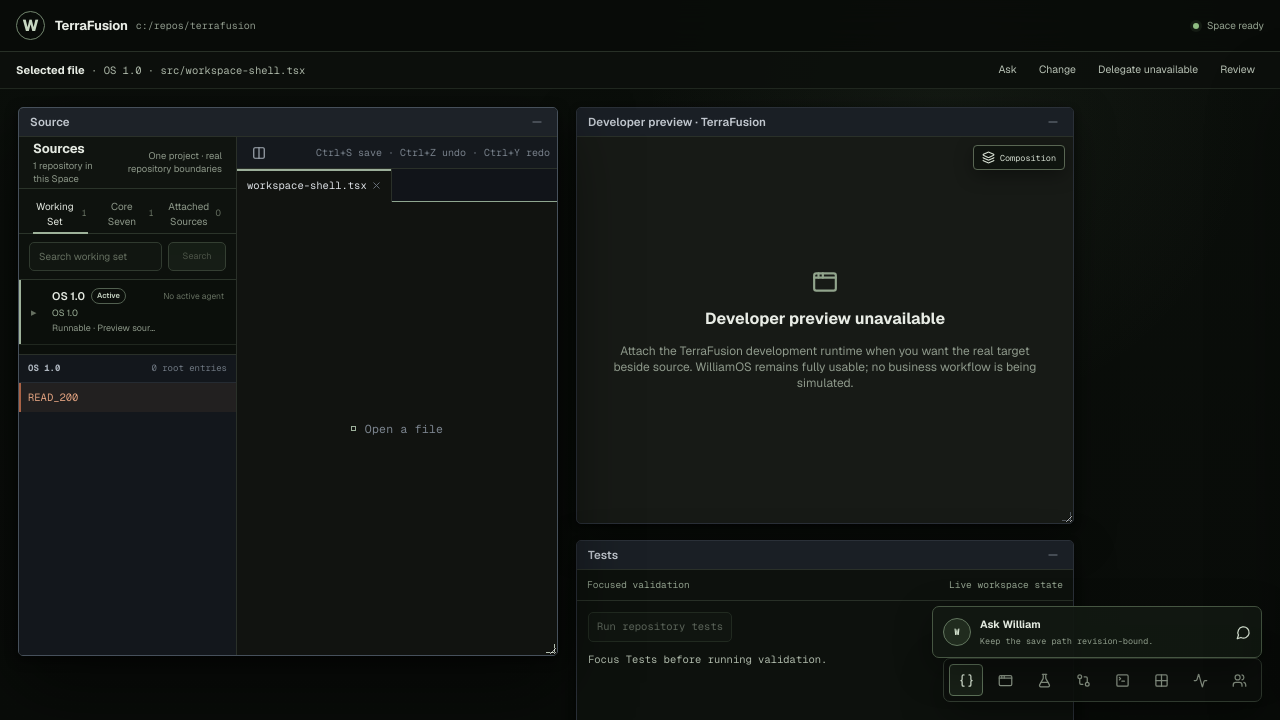
Test case: durable William conversation rail › does not let a successful older turn clear a newer unsent draft
Click the button with aria-label "Open William conversation" at (1097, 632), box [932,606,1262,658]
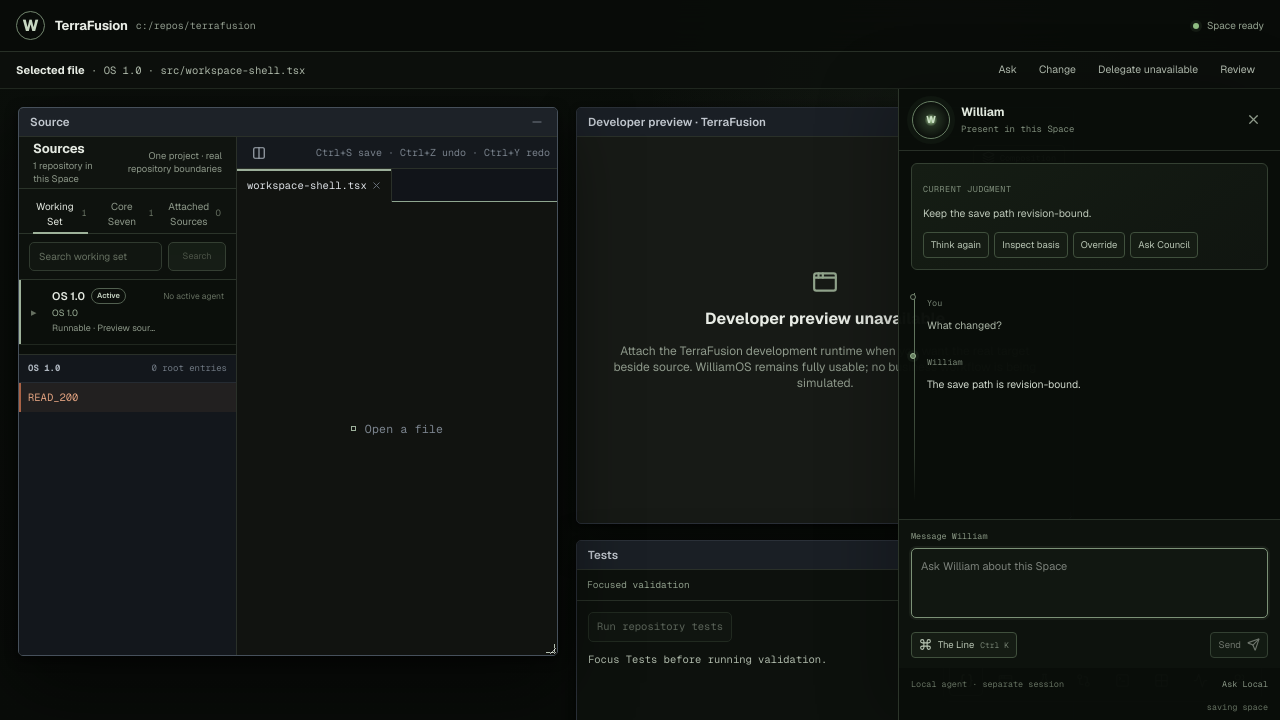
Type "Finish the earlier turn" into the text box labelled "Message William" at (1090, 583), box [911,548,1268,618]
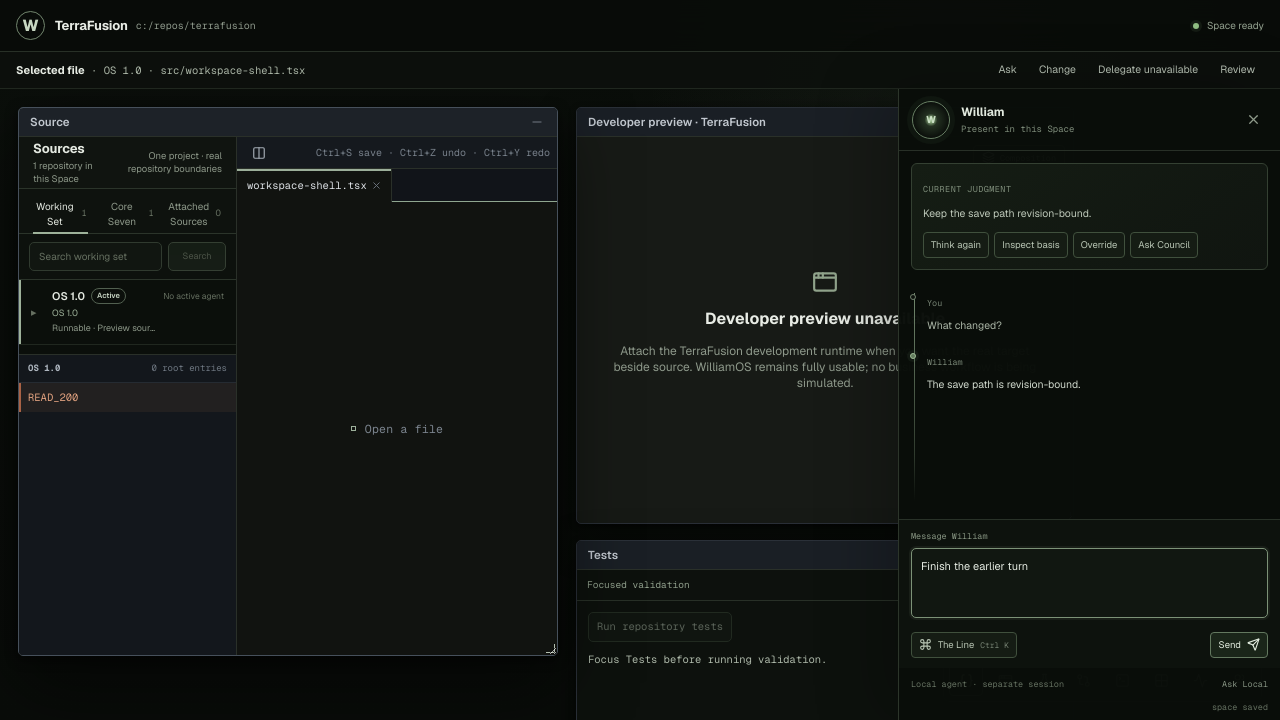
Click the button with aria-label "Send to William" at (1239, 645), box [1210,632,1268,658]
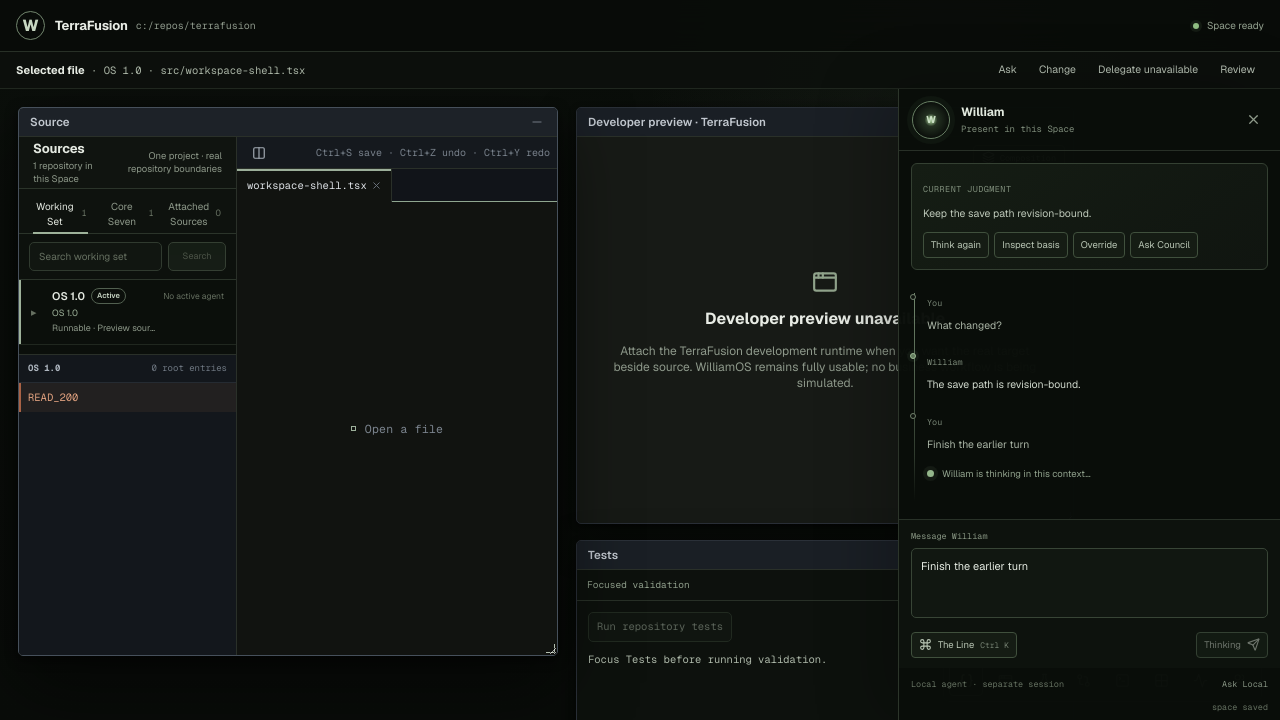
Replace the text in the text box labelled "Message William" with "Newer unsent draft" at (1090, 583), box [911,548,1268,618]
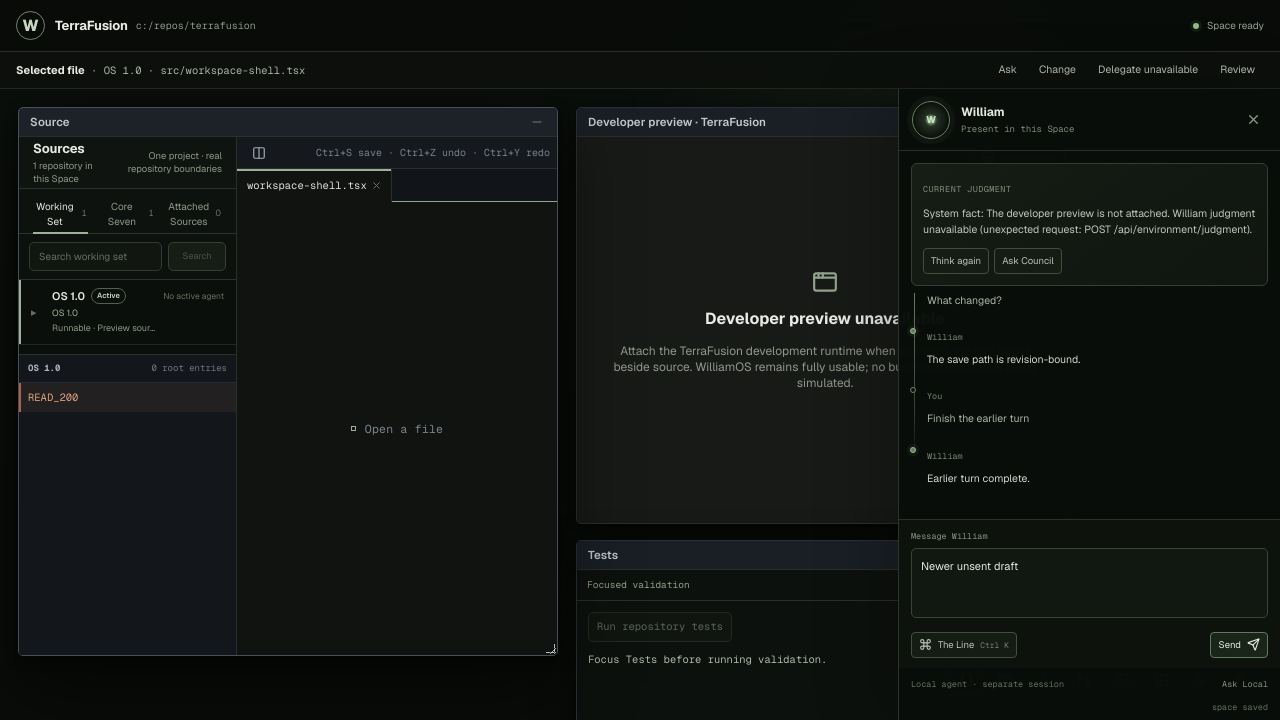
Expected: the text "Earlier turn complete." is shown, [927,470,1030,484]
